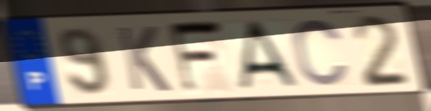2: (351, 12, 412, 89)
9: (57, 25, 114, 98)
A: (236, 18, 303, 92)
C: (291, 17, 352, 89)
F: (166, 17, 227, 96)
K: (114, 25, 174, 95)
